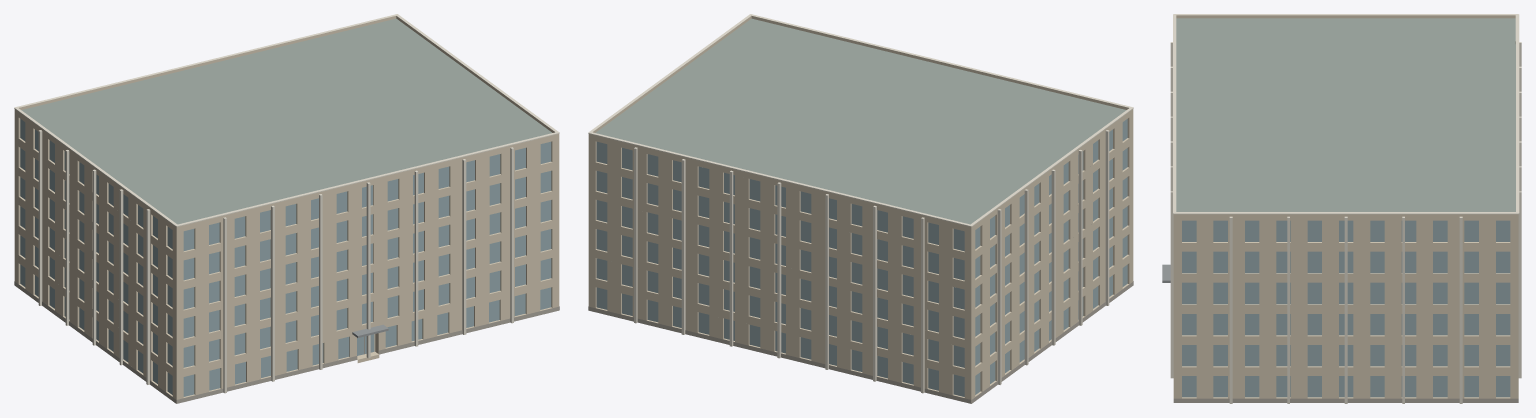
3 renders of one model, left to right at view 1: azimuth 30°, elevation 25°; view 2: azimuth 150°, elevation 25°; view 3: azimuth 270°, elevation 25°, orthographic. The views are drawn at different scales.
Parts seen in each view (by area): view 1: b472625473__wall, b472625473__roof, b472625473__glass, b472625473__trim, b472625473__parapet, b472625473__base; view 2: b472625473__wall, b472625473__roof, b472625473__glass, b472625473__trim, b472625473__parapet, b472625473__base; view 3: b472625473__roof, b472625473__wall, b472625473__glass, b472625473__trim, b472625473__parapet, b472625473__base.
Boxes of the visible parts, x1,y1,x2,y2 form: b472625473__wall: [14, 111, 559, 403]; b472625473__roof: [21, 18, 551, 224]; b472625473__glass: [20, 119, 551, 396]; b472625473__trim: [14, 14, 559, 393]; b472625473__parapet: [14, 16, 559, 228]; b472625473__base: [14, 281, 559, 403]; b472625473__wall: [588, 111, 1133, 403]; b472625473__roof: [596, 18, 1126, 224]; b472625473__glass: [596, 119, 1127, 396]; b472625473__trim: [588, 14, 1133, 393]; b472625473__parapet: [588, 15, 1133, 228]; b472625473__base: [588, 281, 1133, 403]; b472625473__roof: [1176, 18, 1515, 211]; b472625473__wall: [1173, 216, 1518, 398]; b472625473__glass: [1182, 220, 1510, 397]; b472625473__trim: [1170, 14, 1521, 403]; b472625473__parapet: [1173, 15, 1518, 216]; b472625473__base: [1173, 398, 1518, 402].
Size of the model in its own units: 50.1 by 22.35 by 37.77.
